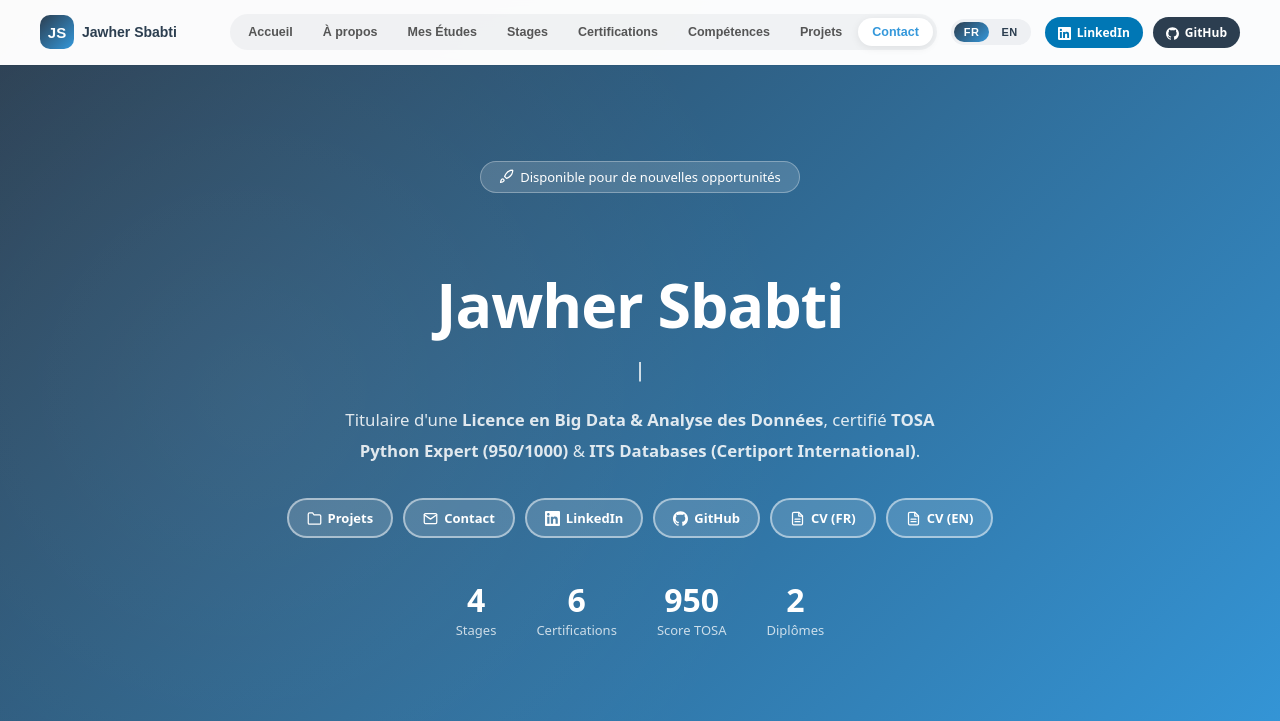
Portfolio de Jawher Sbabti › le bouton EN traduit le site en anglais
What coordinates should you click on to do the following:
click the button "EN"
I would click on:
 (1010, 32)
Its box is [992,22,1028,42].
(page scrolled)
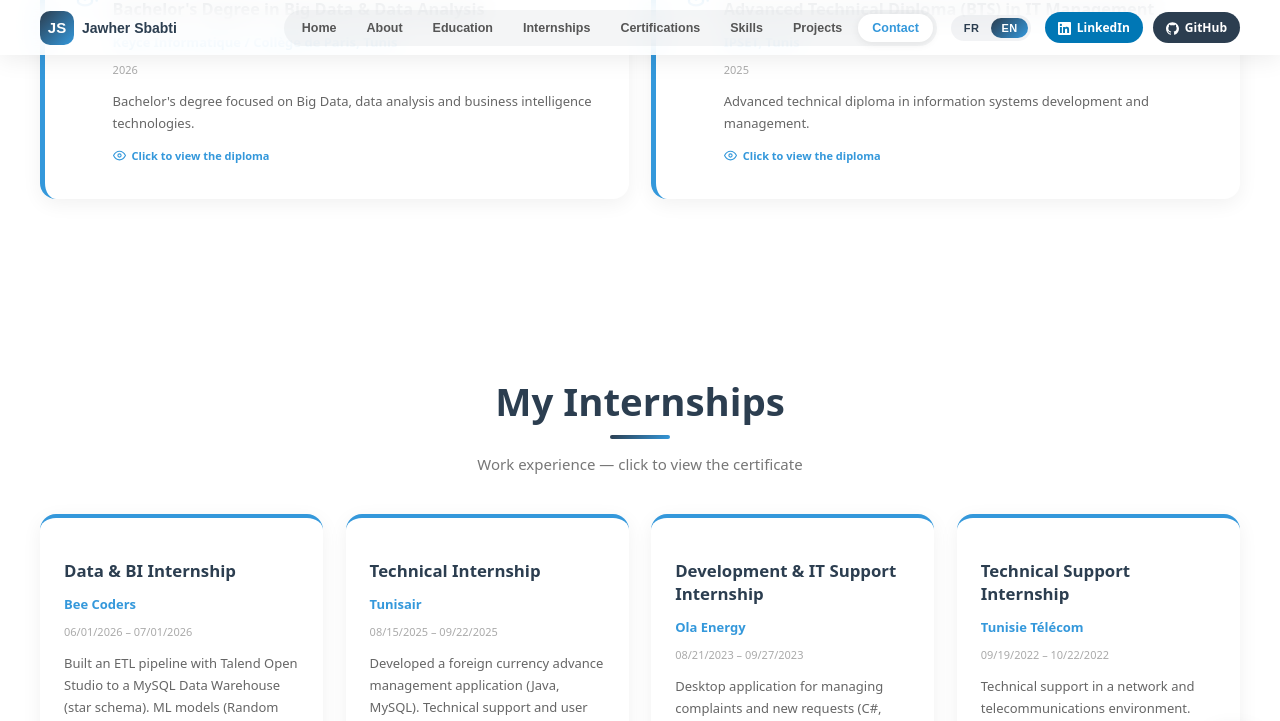
Expected: the button "Home" is shown, [288,14,350,42]
Expected: the heading "My Internships" is shown, [495,375,785,427]
